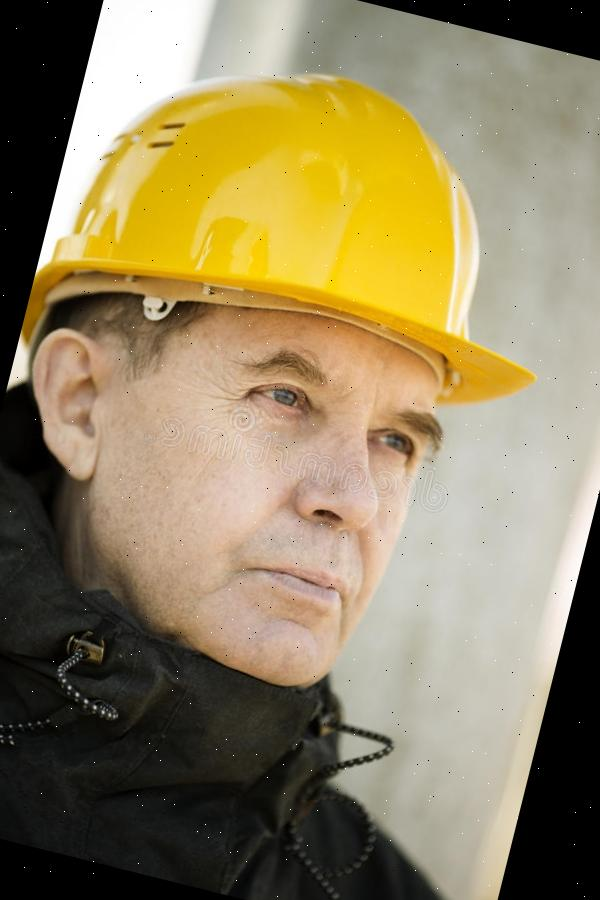helmet: (21, 17, 598, 454)
